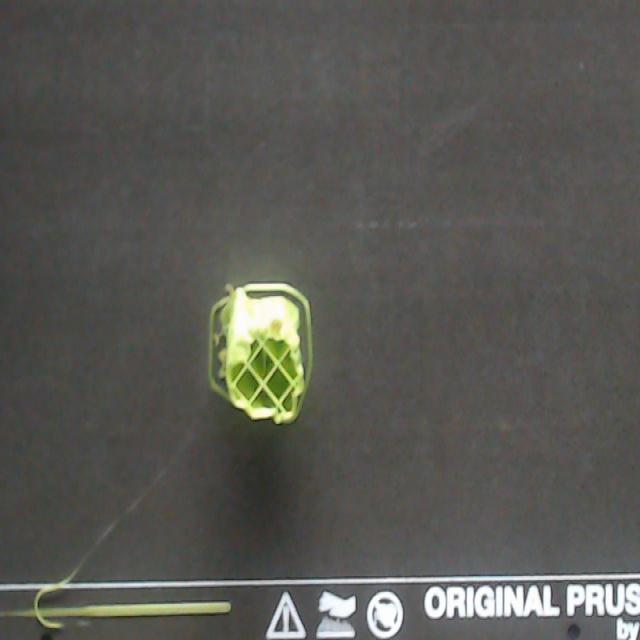mistake: (3, 567, 230, 636), (225, 284, 246, 296), (214, 323, 221, 353)
